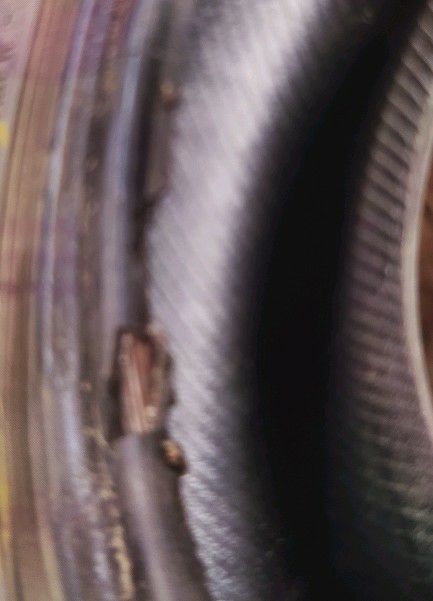bead_damage: (99, 305, 205, 486)
